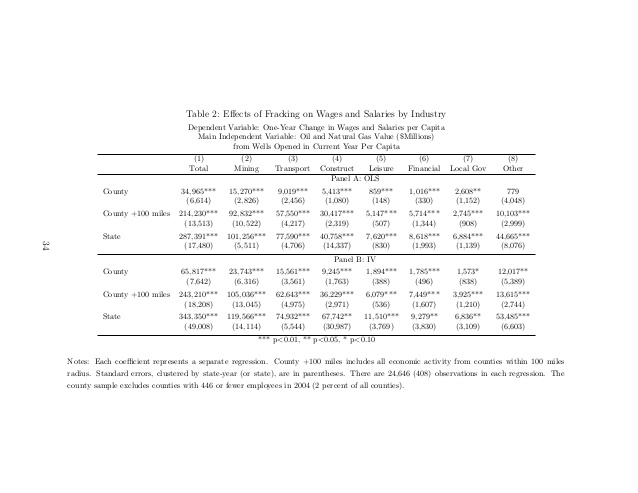fracking table: (89, 103, 539, 348)
